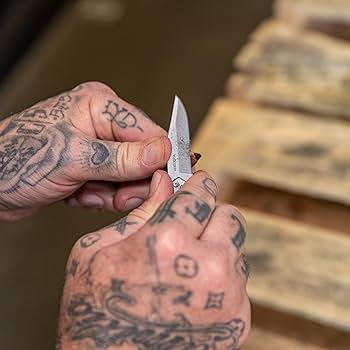Knife: (0, 80, 251, 350), (66, 175, 249, 350), (166, 94, 193, 190)
